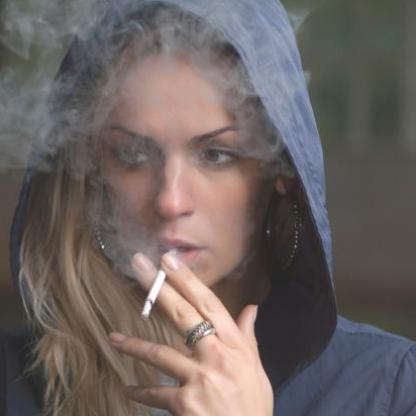cigarette: (142, 268, 166, 323)
person: (48, 7, 297, 415)
smoke: (0, 2, 74, 163), (70, 0, 129, 126)
